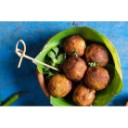bonda: (64, 55, 85, 79), (88, 43, 109, 67), (66, 33, 85, 59), (87, 67, 109, 89), (75, 85, 96, 107), (48, 76, 71, 96)
